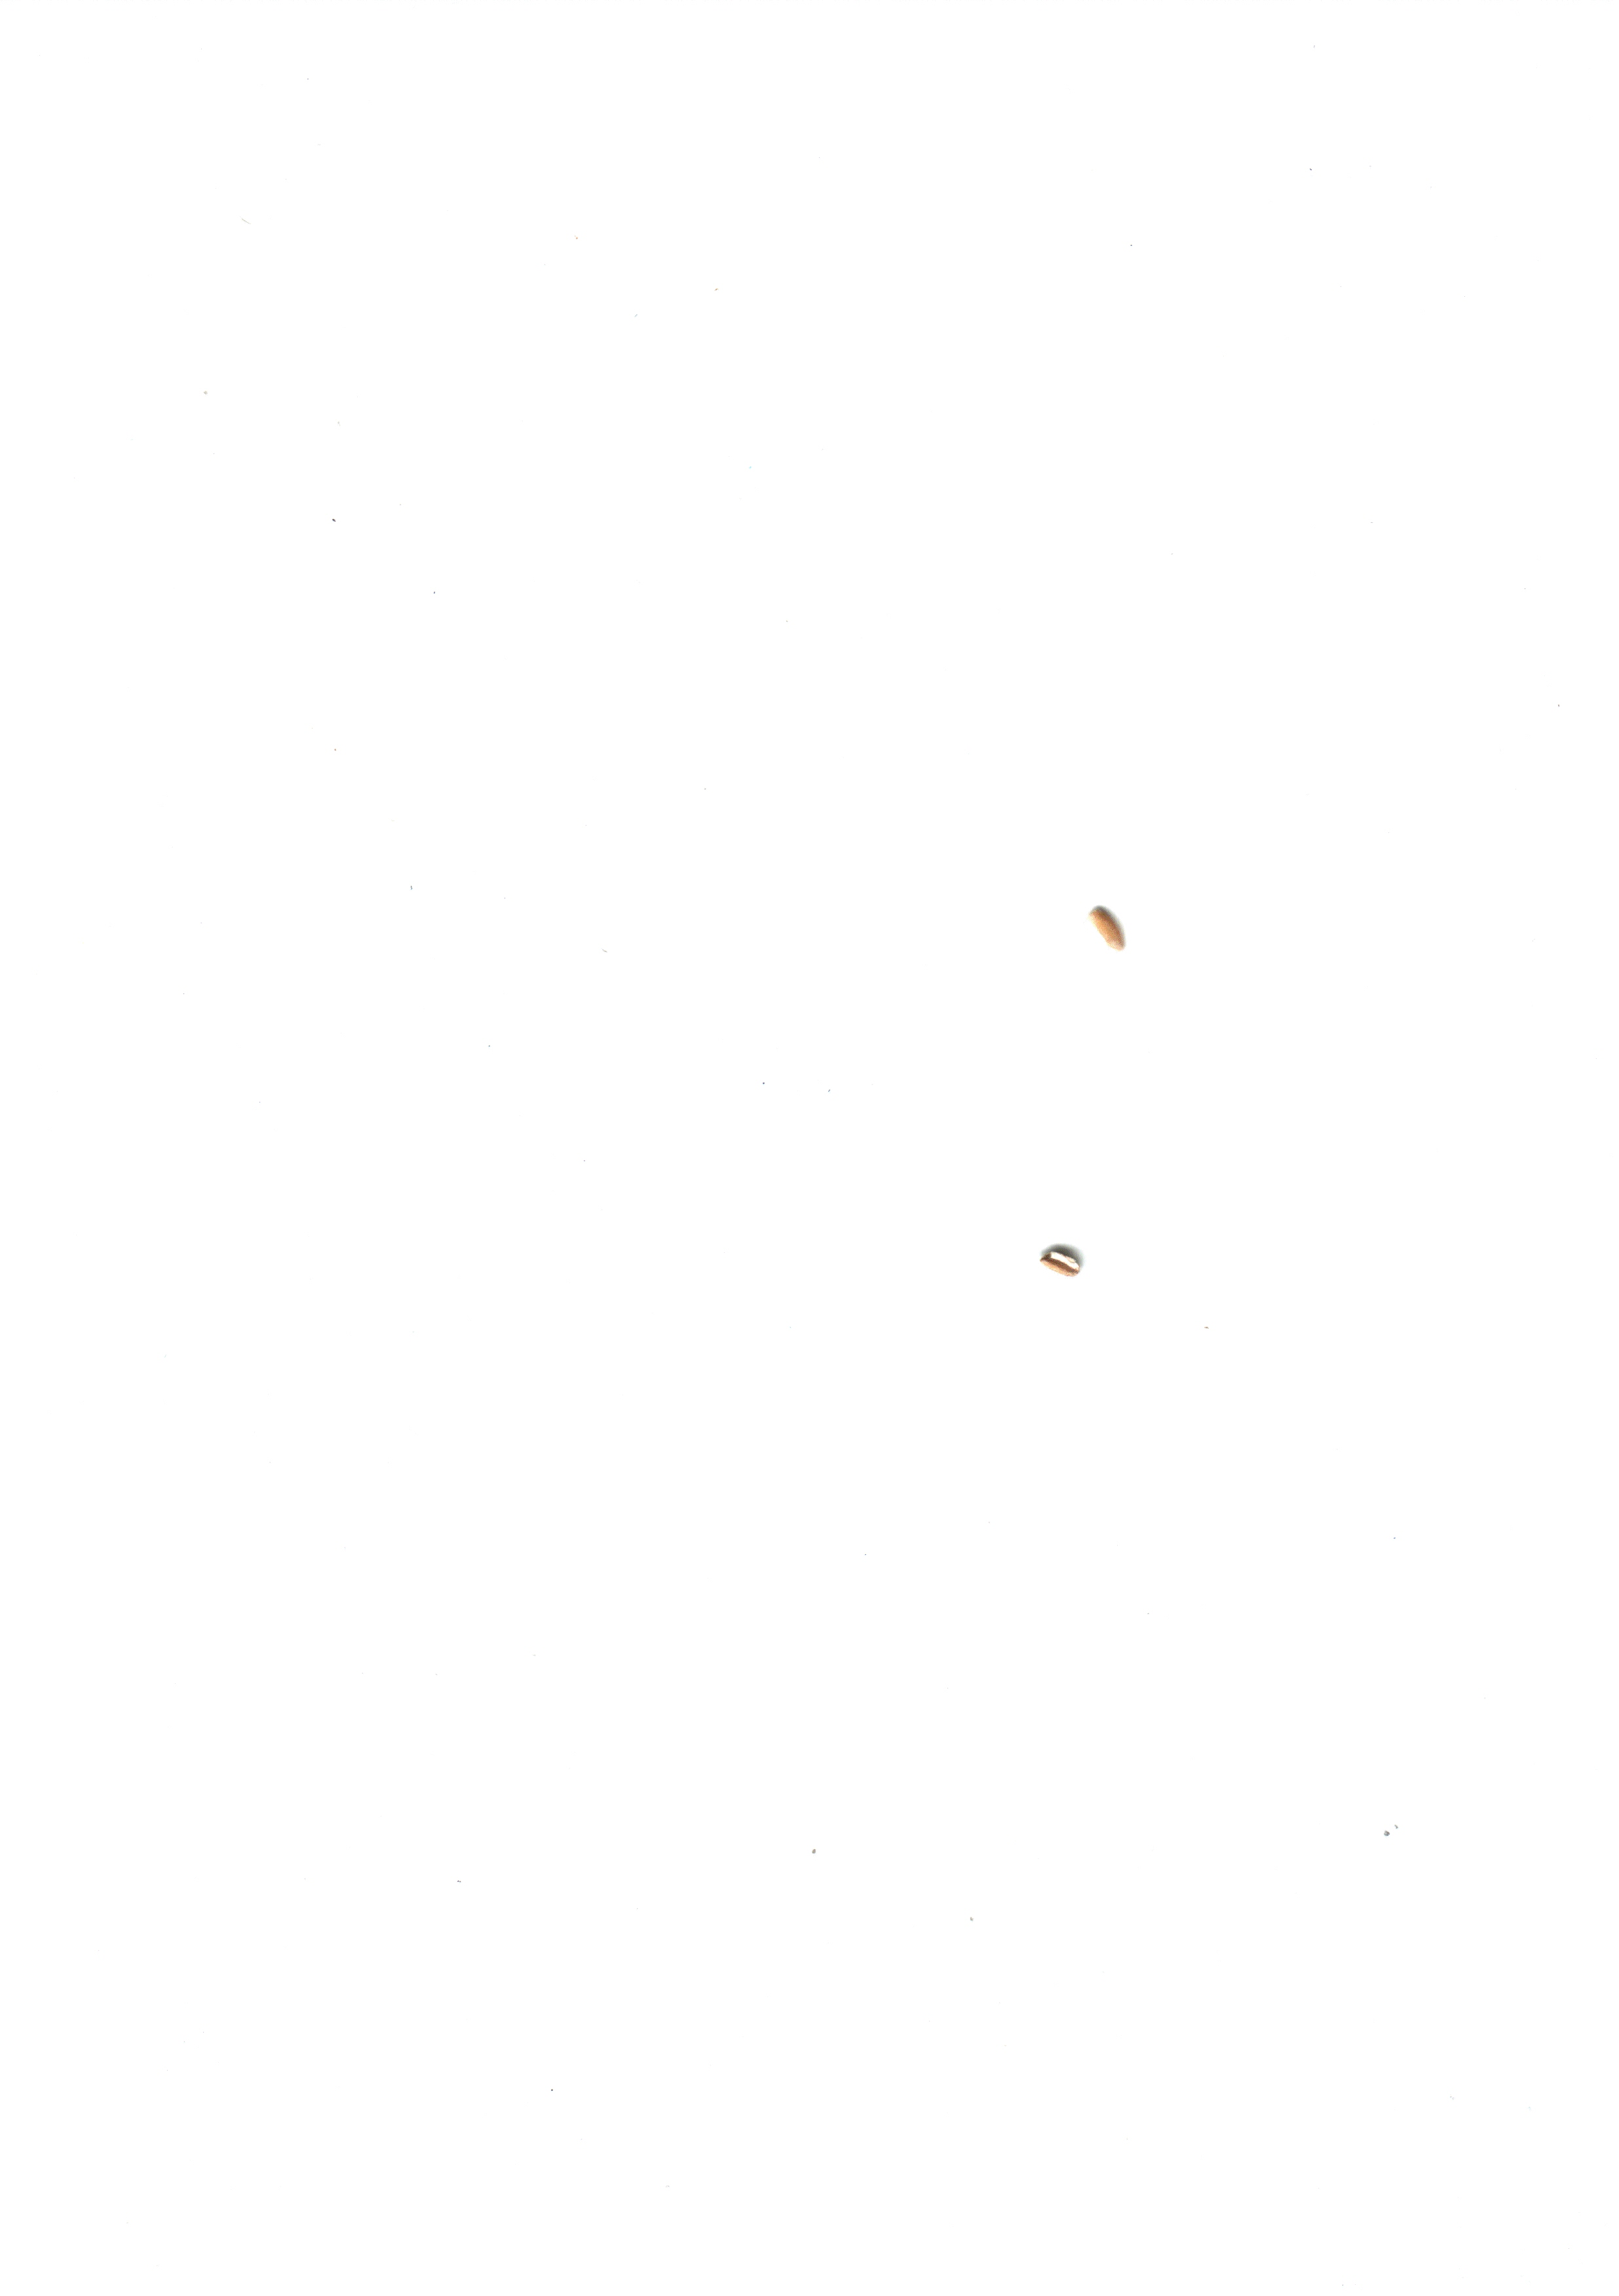grains_2mm: (1079, 890, 1139, 964), (1037, 1232, 1090, 1290)
